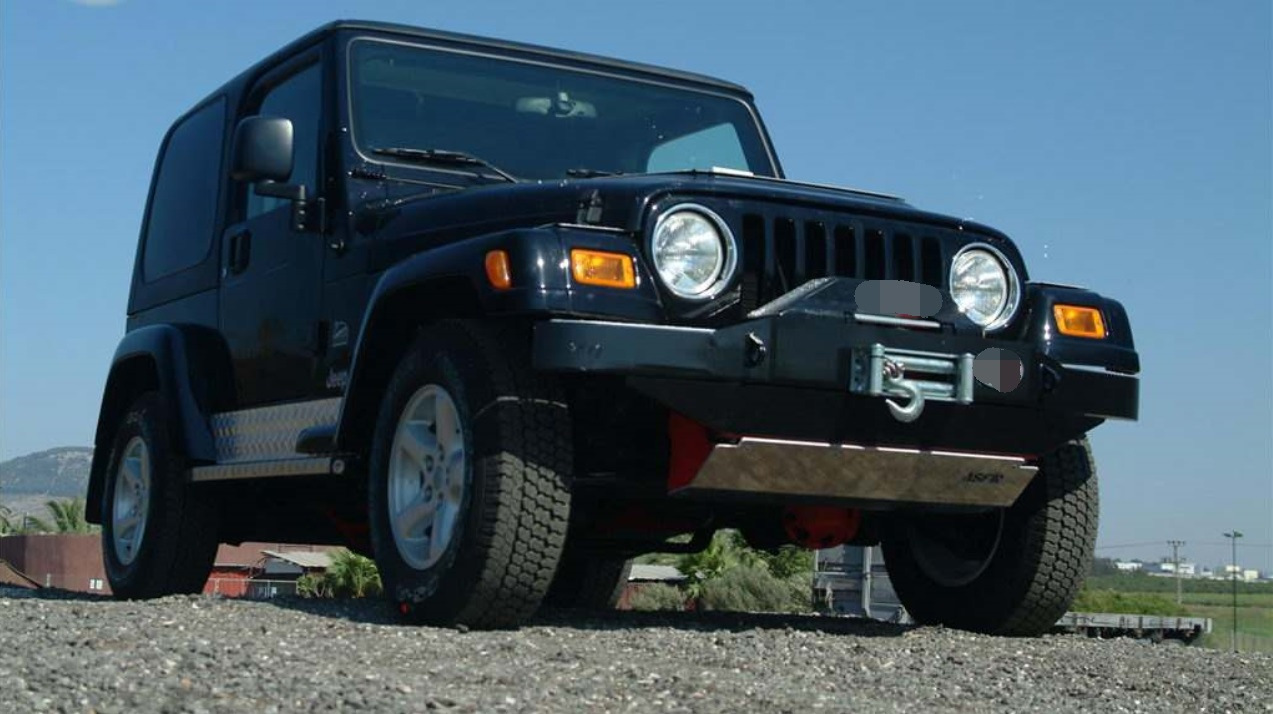jeep: (120, 12, 1134, 650)
